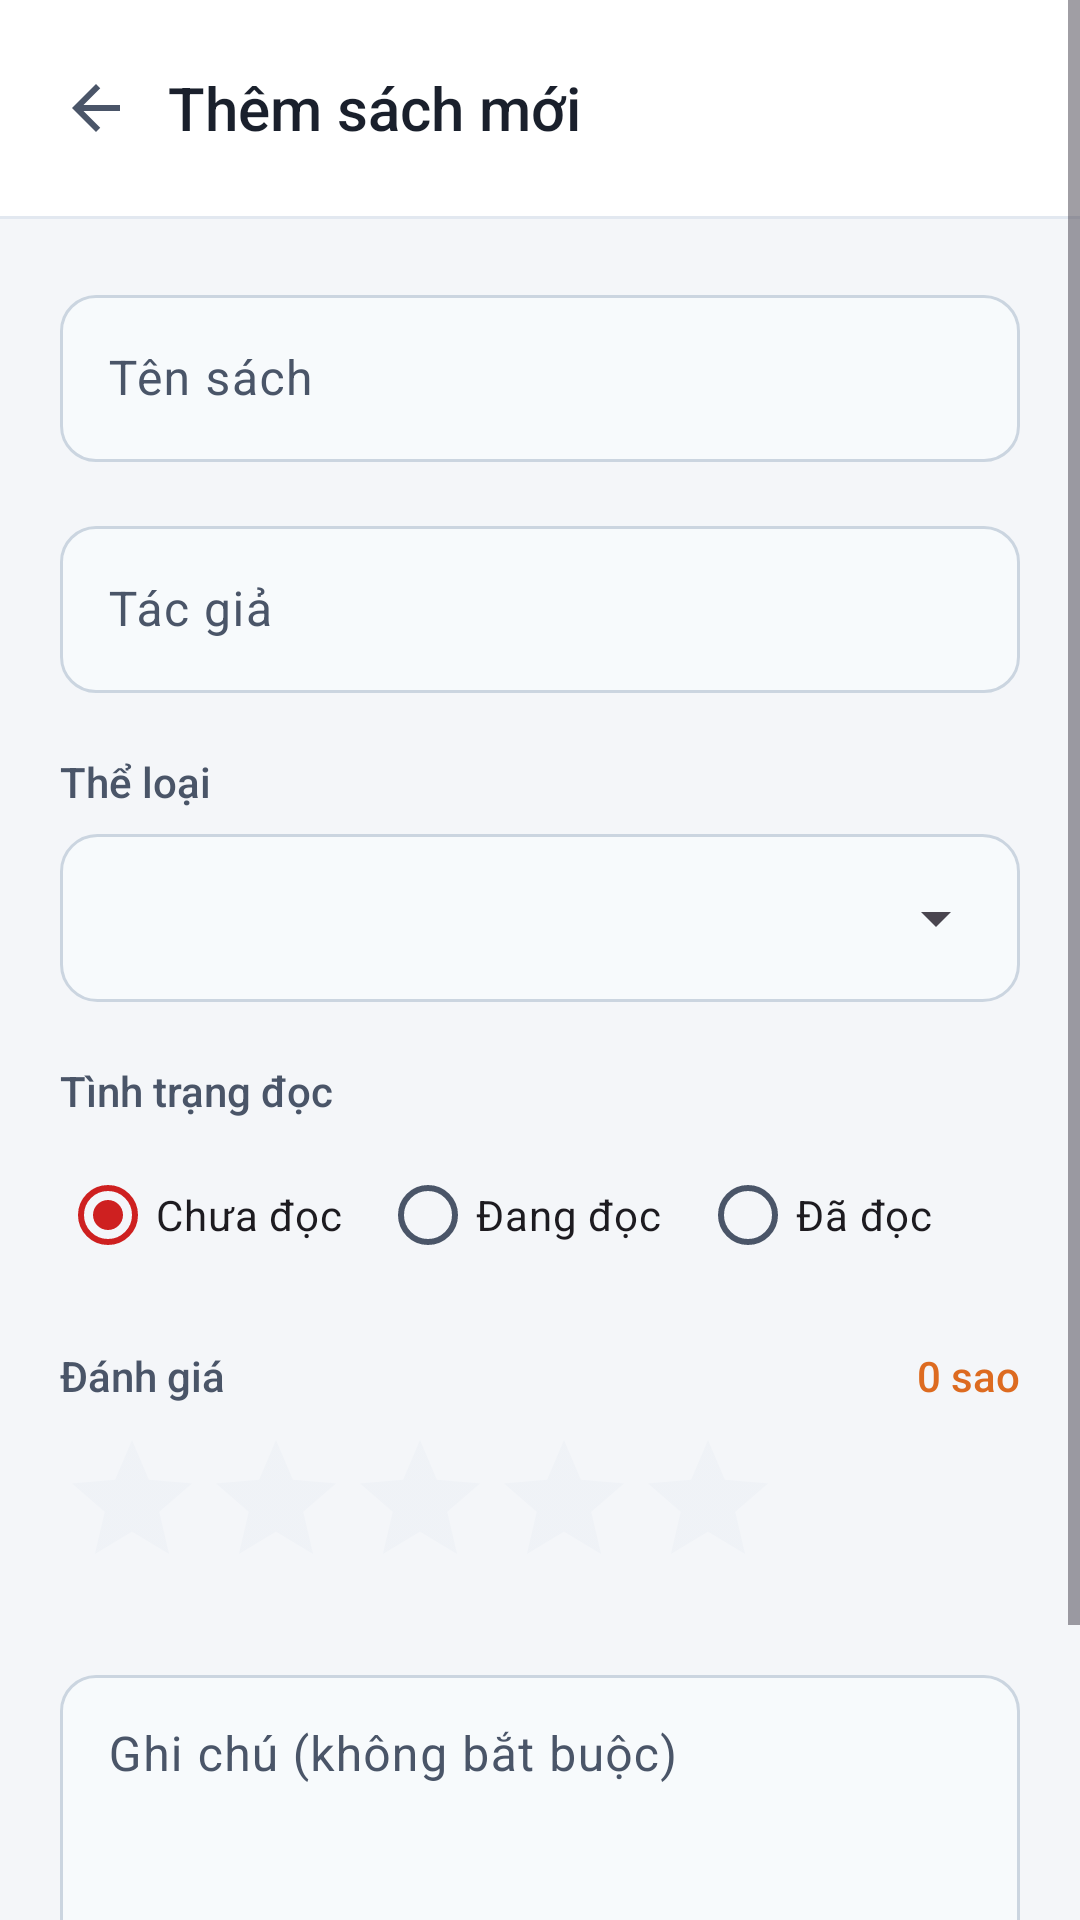

Locate icon controls on the screen. Image size 1080 x 1920, boxes as (x1, y1, x2, y2).
Quay lại: (72, 84, 120, 132)
